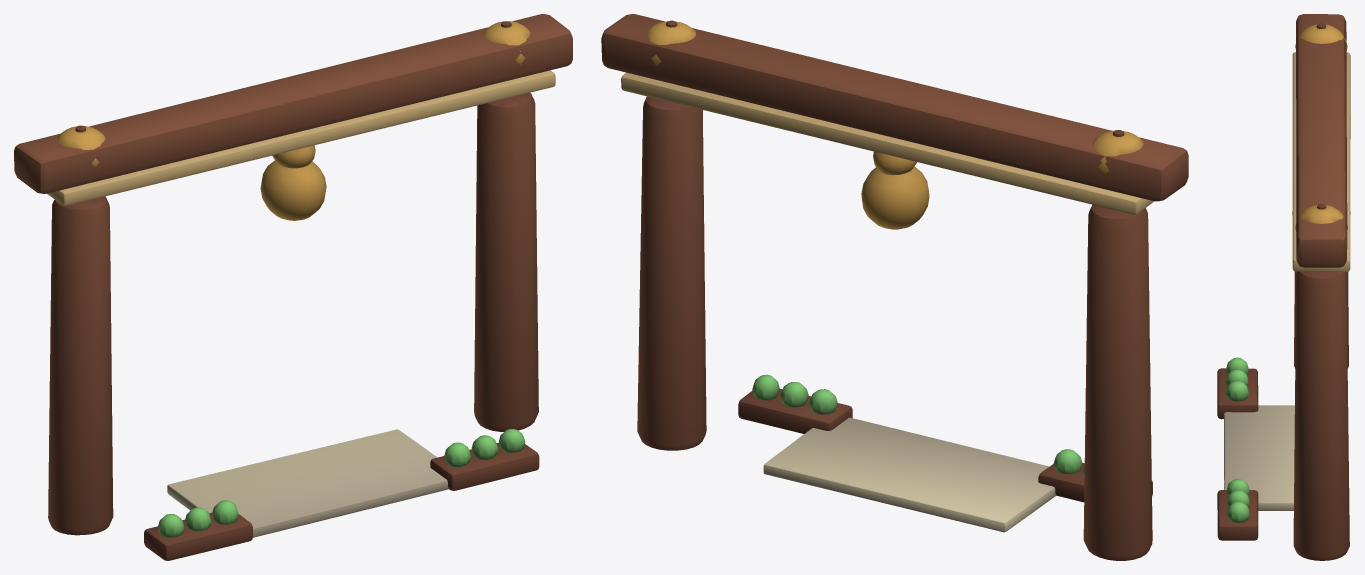
3 renders of one model, left to right at view 1: azimuth 30°, elevation 25°; view 2: azimuth 150°, elevation 25°; view 3: azimuth 270°, elevation 25°, orthographic. The views are drawn at different scales.
Parts seen in each view (by area): view 1: gate_01fdbd60; view 2: gate_01fdbd60; view 3: gate_01fdbd60.
Part boxes in pixels (box(x1,y1,x2,y2)): gate_01fdbd60: box(14, 14, 572, 560); gate_01fdbd60: box(601, 14, 1188, 560); gate_01fdbd60: box(1217, 14, 1350, 560).
Size of the model in its own units: 5.56 by 3.95 by 1.37.
